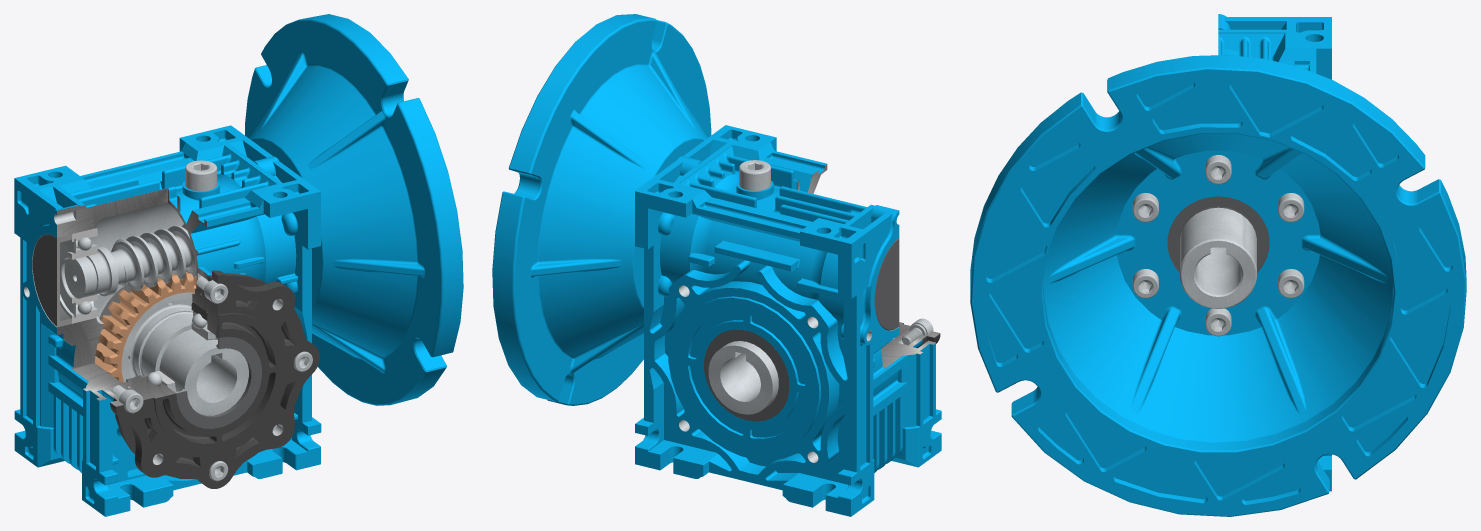
The model's file is worm-gearbox.glb.
The picture shows the model from 3 angles, left to right: view 1: azimuth 30°, elevation 25°; view 2: azimuth 150°, elevation 25°; view 3: azimuth 270°, elevation 25°; orthographic projection. The views are drawn at different scales.
Parts seen in each view (by area): view 1: Object_42, Object_43, Object_3, Object_24, Object_41, Object_36, Object_46, Object_2, Object_37, Object_39, Object_25, Object_27 (+1 smaller); view 2: Object_43, Object_42, Object_46, Object_24, Object_41, Object_25; view 3: Object_42, Object_36, Object_43, Object_46, Object_35, Object_30, Object_31, Object_33, Object_34, Object_32.
Part boxes in pixels (x1,y1,x2,y2): Object_42: (245,14,463,405); Object_43: (14,125,321,516); Object_3: (110,270,319,488); Object_24: (121,292,248,415); Object_41: (57,188,219,406); Object_36: (64,224,196,298); Object_46: (32,234,261,428); Object_2: (95,271,196,382); Object_37: (24,203,201,391); Object_39: (72,228,207,384); Object_25: (185,160,217,191); Object_27: (196,276,228,303); Object_43: (635,125,941,516); Object_42: (492,14,711,405); Object_46: (704,238,899,421); Object_24: (708,341,778,414); Object_41: (788,164,939,368); Object_25: (739,160,770,190); Object_42: (970,55,1466,516); Object_36: (1180,207,1256,308); Object_43: (1218,14,1331,491); Object_46: (1167,196,1269,272); Object_35: (1205,155,1231,184); Object_30: (1132,193,1158,222); Object_31: (1132,269,1158,298); Object_33: (1278,269,1304,298); Object_34: (1278,193,1304,222); Object_32: (1205,308,1231,336).
Size of the model in its own units: 0.1438 by 0.1699 by 0.1599.
Materials: 14 (4 with a texture image).
